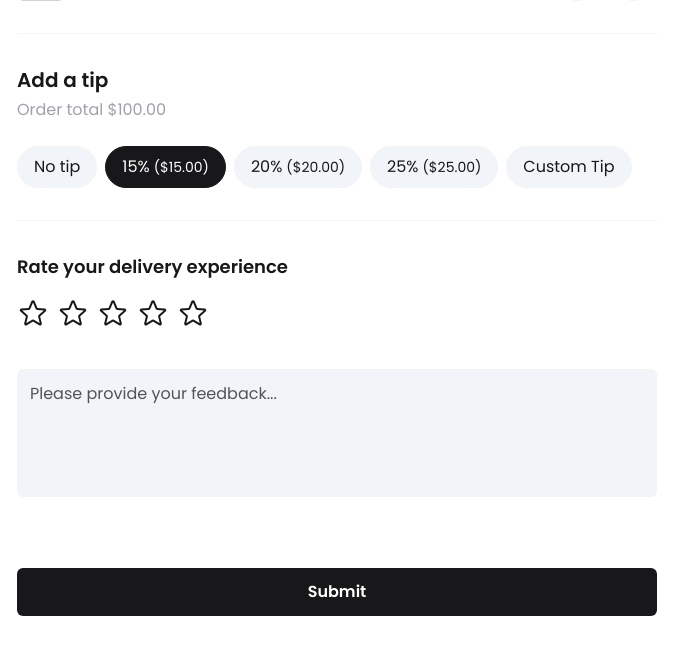
Scenario: PackingSupplyFeedbackForm › Form Validation › clears rating error when rating is selected
(page scrolled)
// Try to submit without rating
Click the button with aria-label "Submit feedback": (337, 592) 17,568 -> 657,616
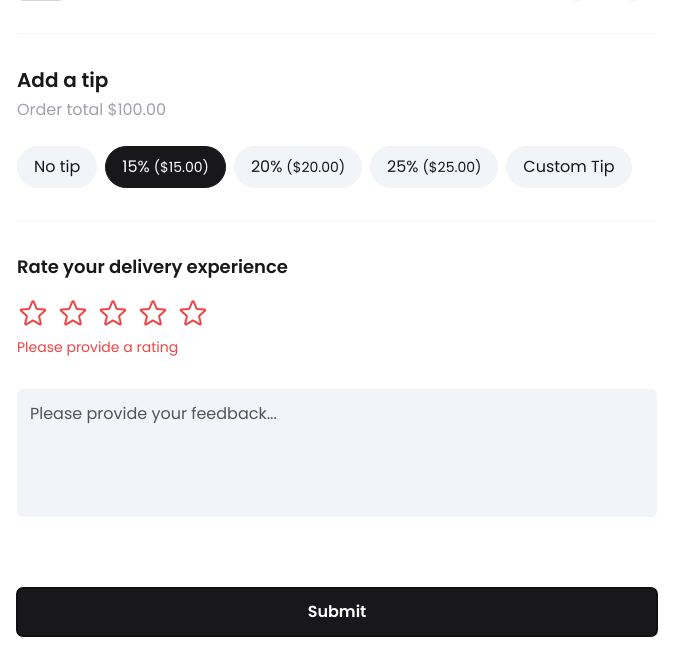
Now the text "Please provide a rating" is shown, box 17,337 -> 178,357
// Select a rating
Click the button named "Rate 3 out of 5 stars": (113, 313) 97,297 -> 129,329
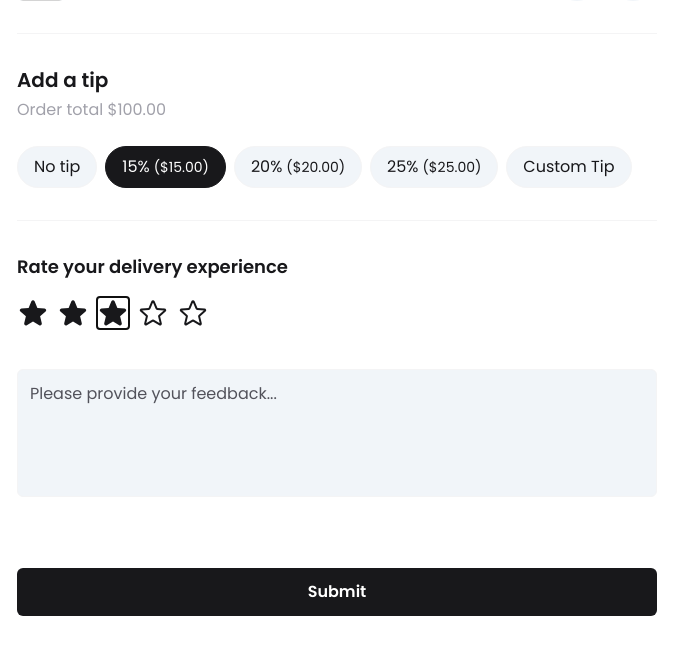
Now the text "Please provide a rating" is gone
